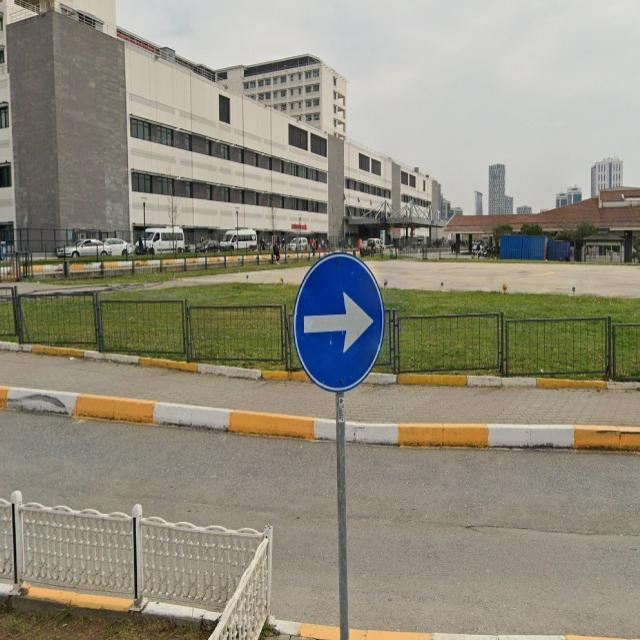Turn Right: (292, 252, 384, 397)
